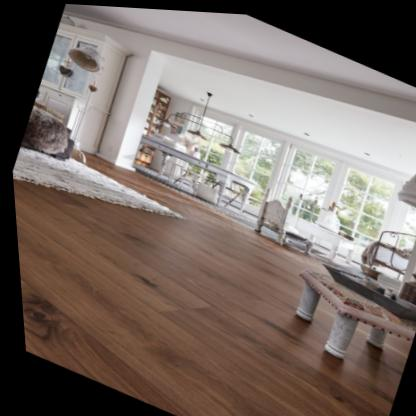Wooden floor: (10, 153, 407, 416)
